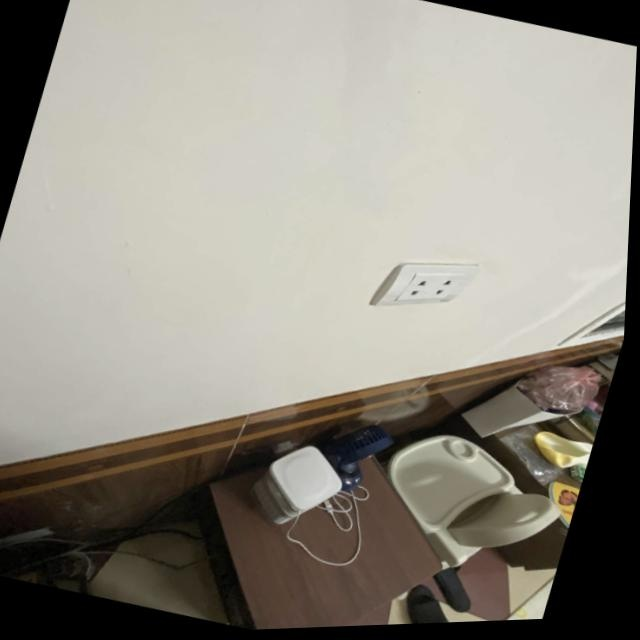outlet: (368, 239, 483, 328)
